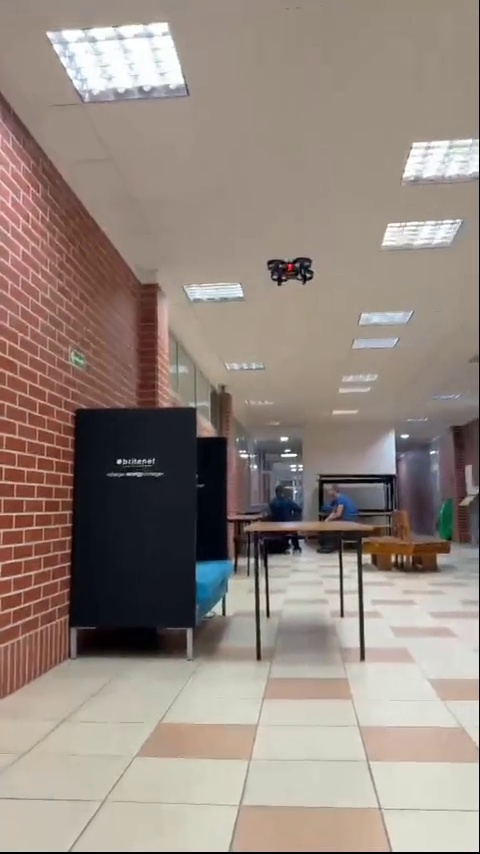drone: (264, 256, 313, 289)
no vest: (264, 479, 306, 521), (318, 479, 357, 515)
